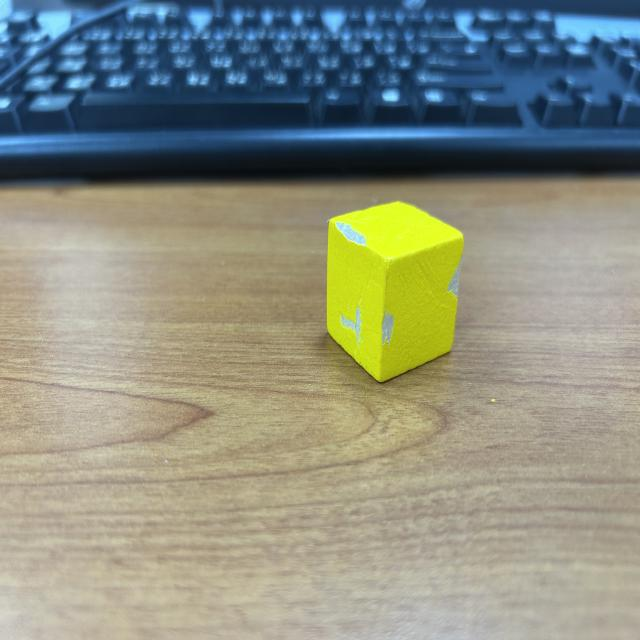broken: (325, 201, 465, 385)
